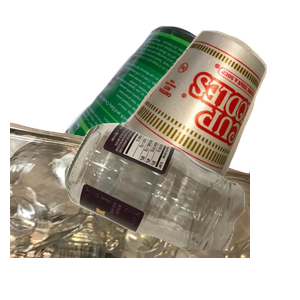glass: (62, 120, 300, 300)
metal: (60, 23, 300, 203)
plastic: (10, 120, 250, 300)
trash: (119, 28, 300, 207)
